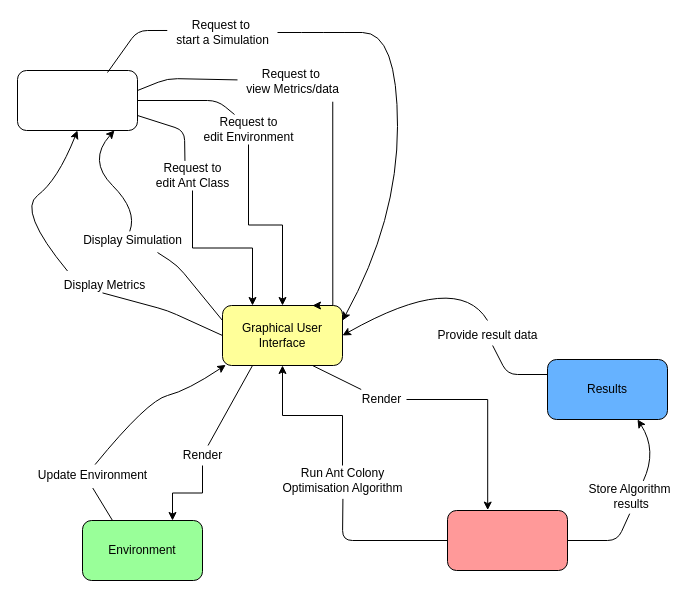
Some shapes in this 697 by 598 pixel diagram are drawn without their labels. Here are the shapes that lost their labels. From the top down, the box of each, then its label:
(16, 70, 138, 130): User
(446, 510, 568, 570): Ant Colony
